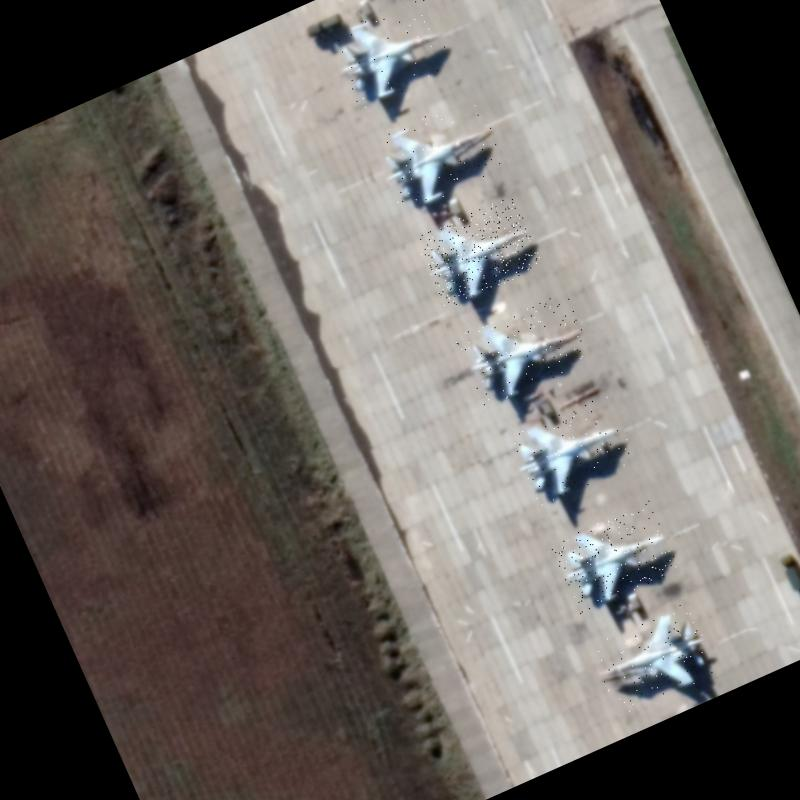A1: (368, 92, 511, 216), (454, 288, 596, 408), (504, 392, 638, 508), (587, 602, 720, 718), (414, 194, 544, 310), (550, 500, 680, 614), (324, 0, 456, 111)
